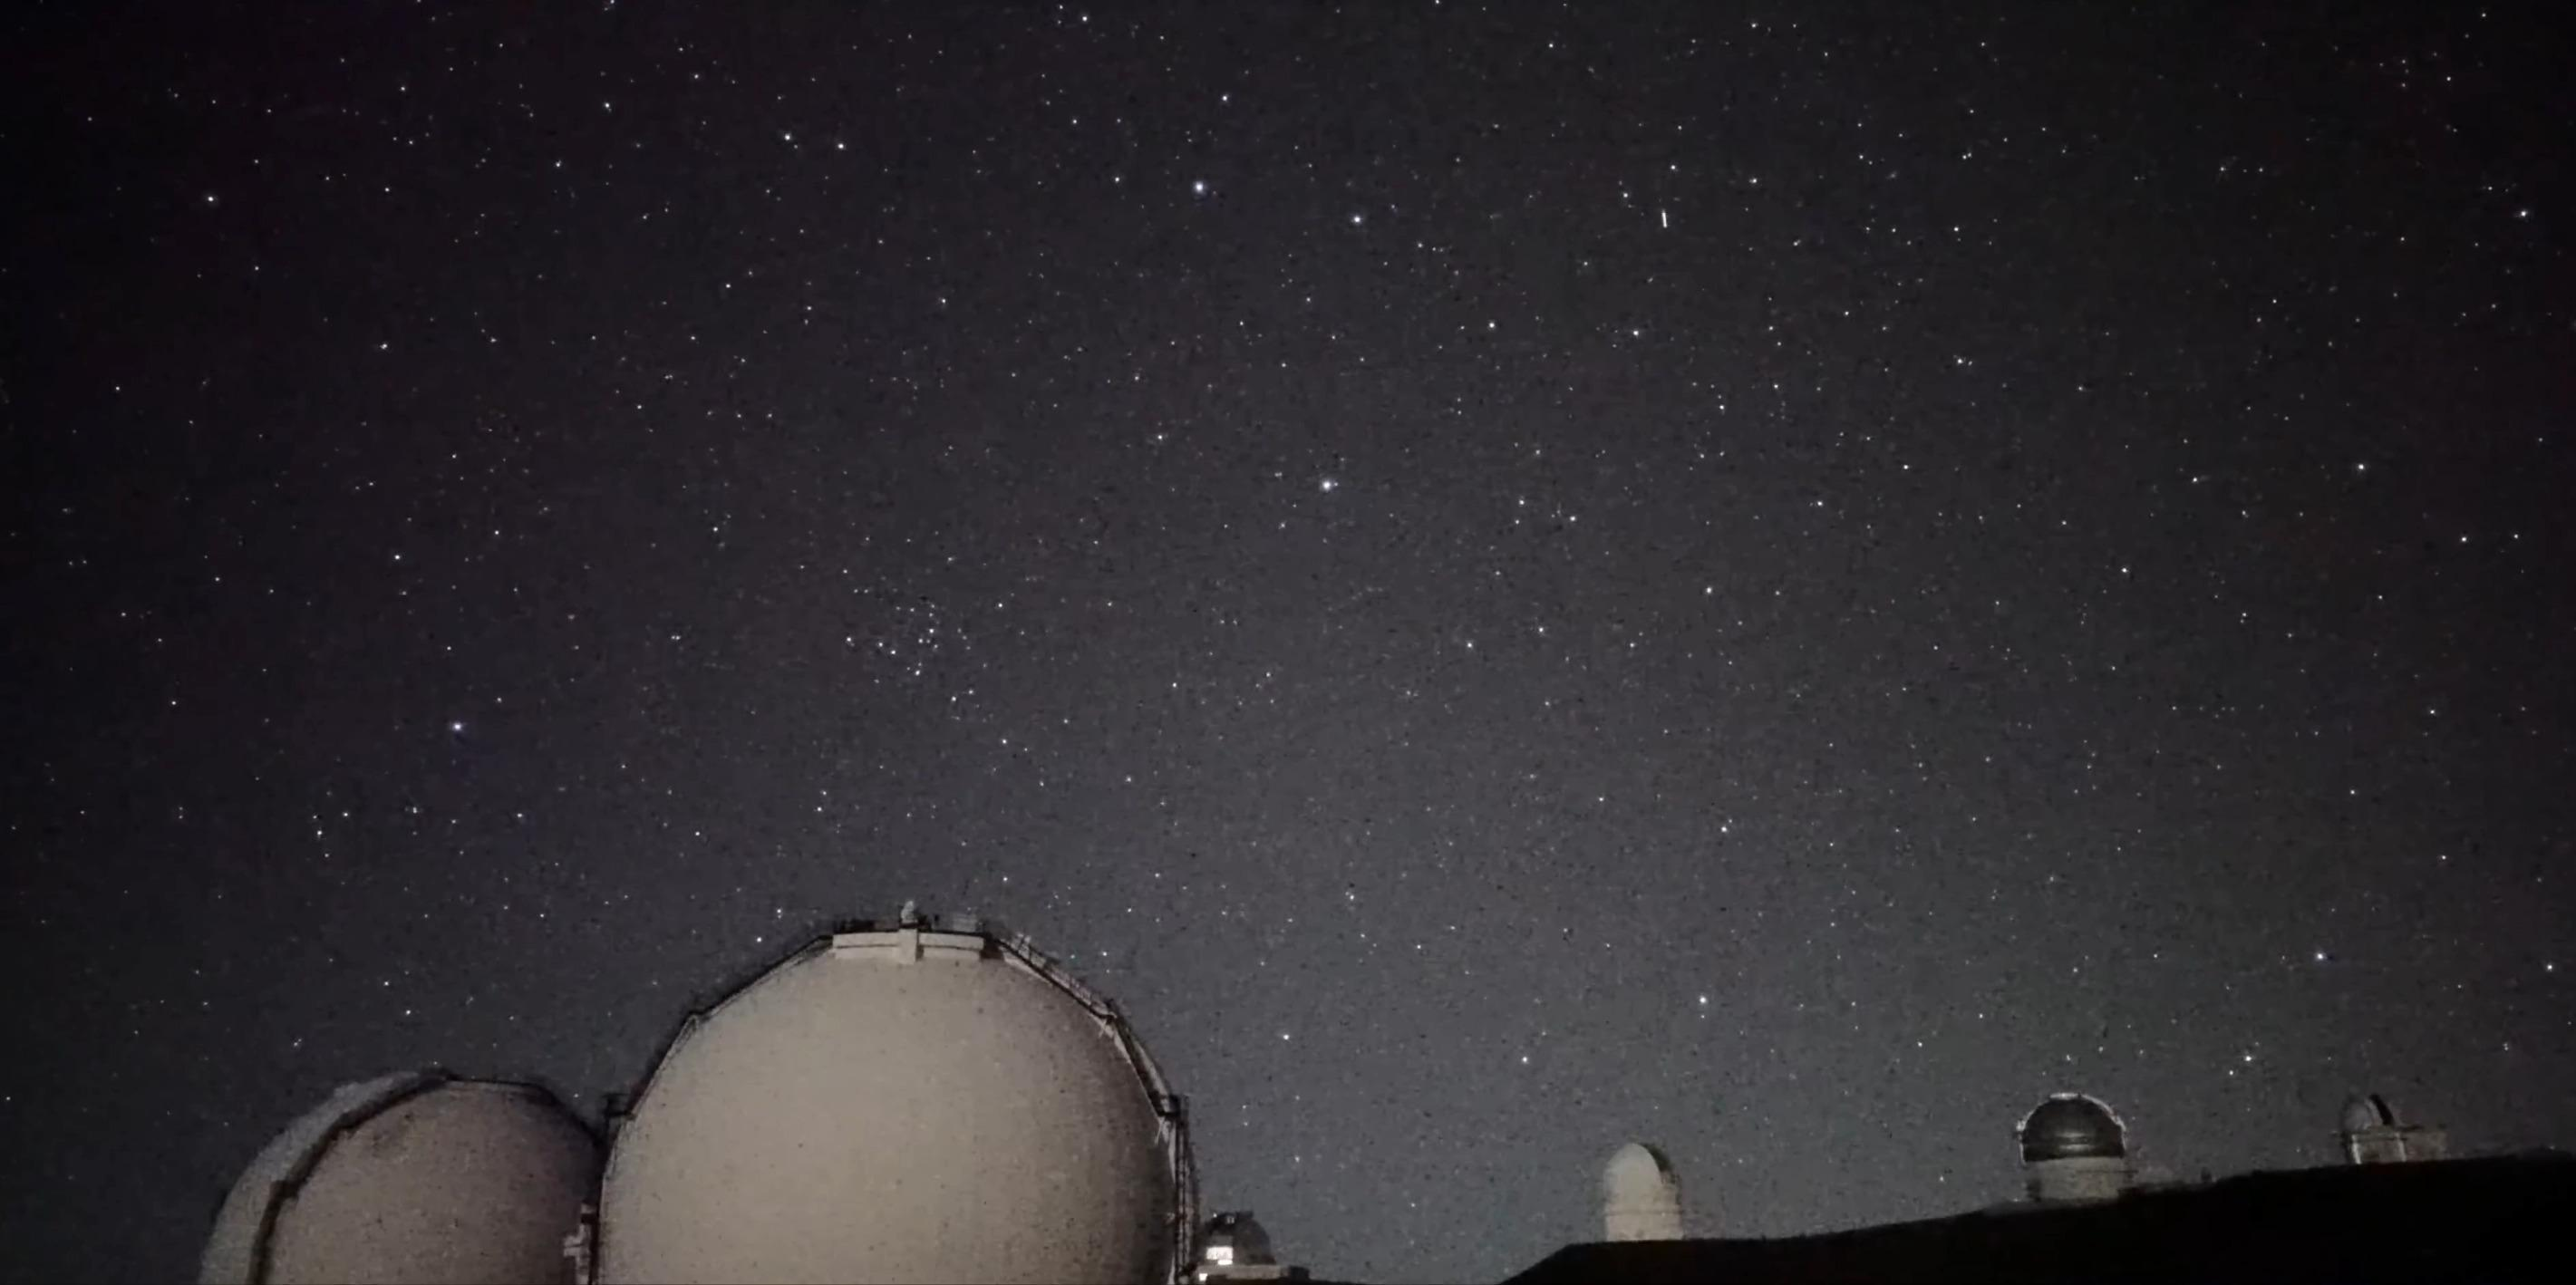meteorite: (1651, 198, 1679, 239)
